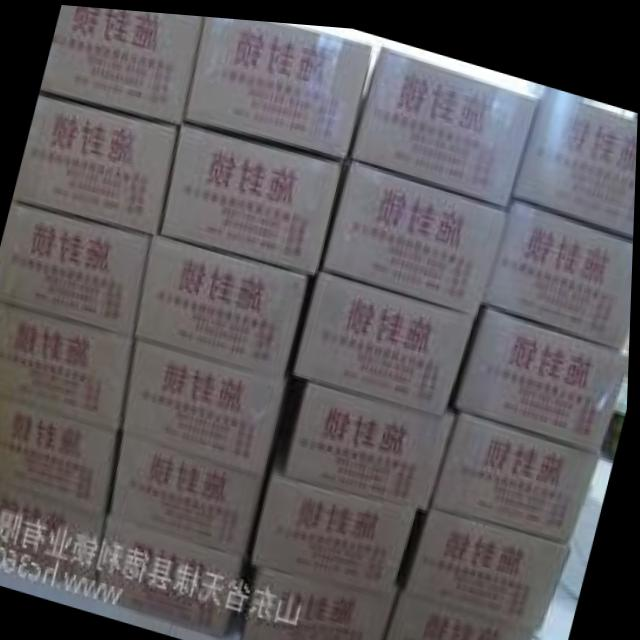box: (350, 41, 539, 197), (323, 155, 512, 306), (161, 120, 344, 267), (297, 268, 477, 410), (455, 299, 631, 444), (187, 13, 370, 150), (137, 233, 313, 370), (256, 441, 420, 582), (284, 370, 458, 501), (432, 403, 602, 535), (485, 192, 634, 340), (125, 340, 292, 471), (15, 95, 177, 228), (403, 498, 575, 620), (0, 201, 154, 334), (513, 77, 638, 230), (42, 4, 203, 121), (112, 433, 269, 551), (99, 517, 250, 632), (0, 306, 137, 428), (0, 399, 122, 512), (244, 560, 402, 640), (0, 489, 107, 594), (388, 586, 539, 640)
